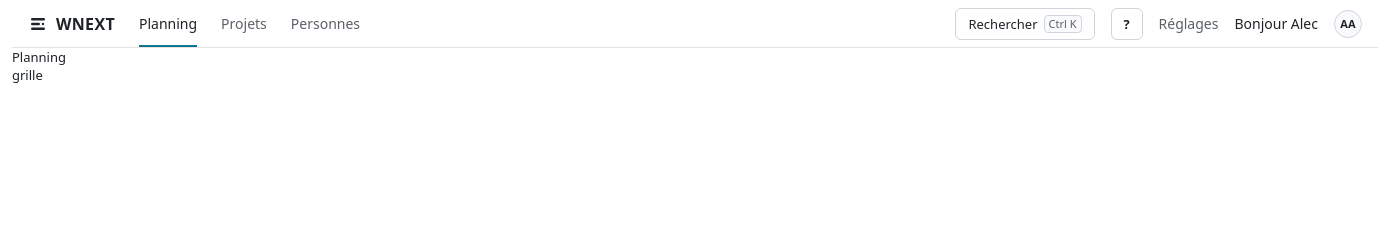
Test: navigation › Projets puis retour au Planning : adresse (requête conservée), page « bientôt », lien actif, focus sur le titre
This screenshot has width=1378, height=231.
Expected: the heading "Planning" is shown, [12,48,66,66]
Click the link "Projets" at (244, 24), box [221,14,267,33]
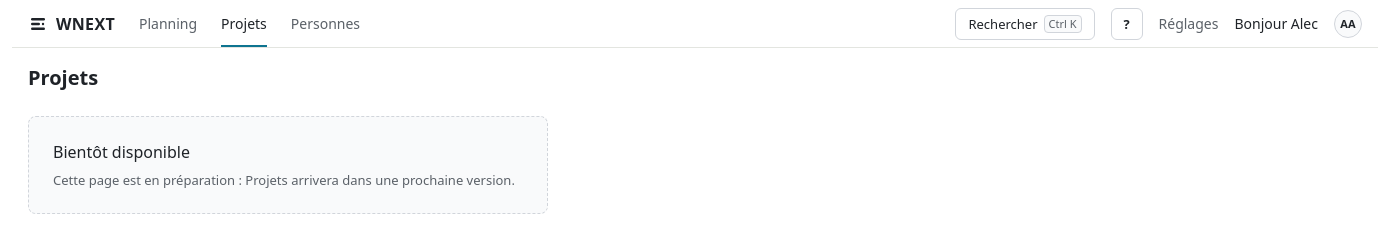
Now the heading "Projets" is shown, box [28,64,98,91]
Now the heading "Bientôt disponible" is shown, box [53,141,190,163]
Now the text "Cette page est en préparation : Projets arrivera dans une prochaine version." is shown, box [53,171,523,189]
Click the link "Planning" at (168, 24), box [139,14,197,33]
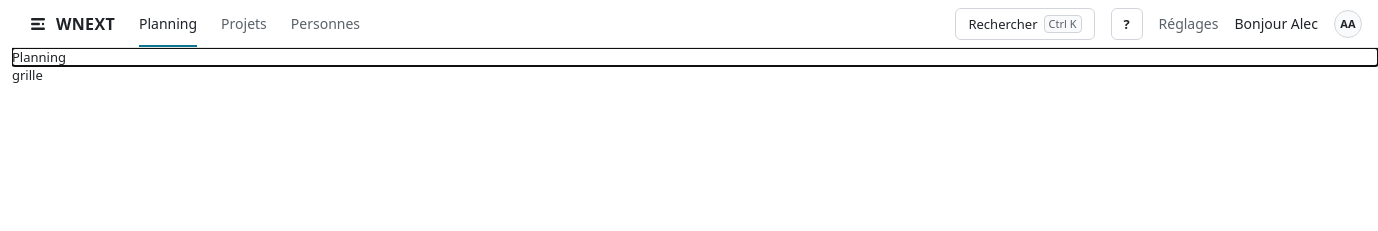
Now the text "grille" is shown, box [12,66,43,84]
